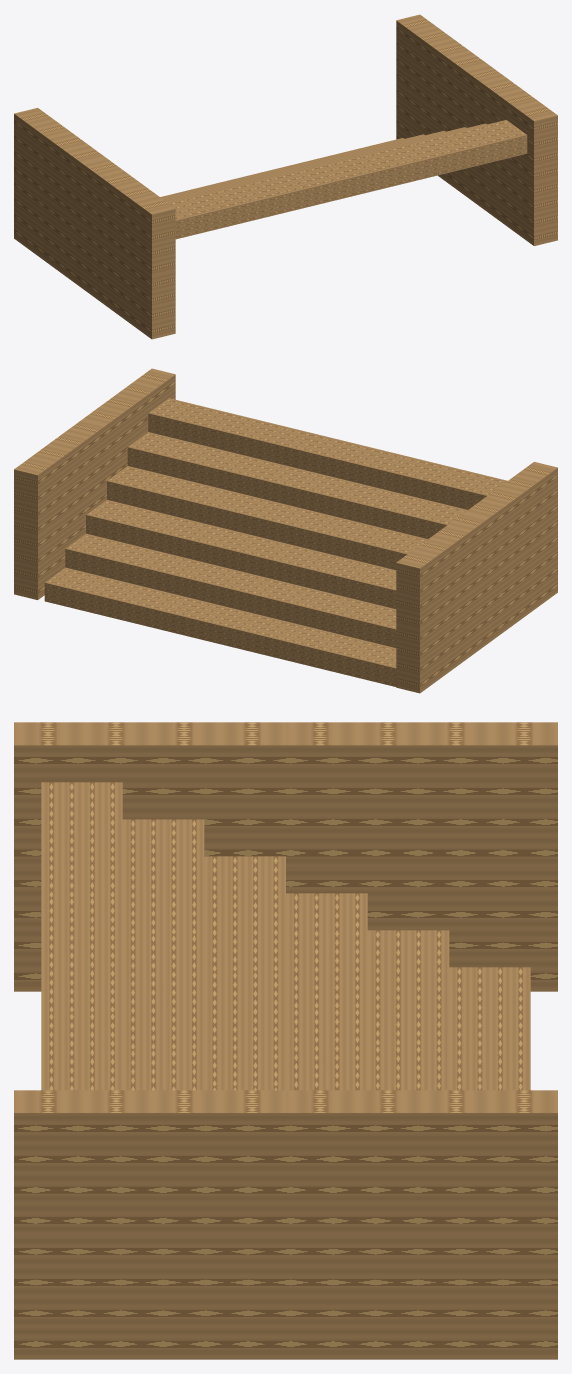
Rendered from water_ghat_stairs.glb.
The picture shows the model from 3 angles, top to bottom: view 1: azimuth 30°, elevation 25°; view 2: azimuth 150°, elevation 25°; view 3: azimuth 270°, elevation 25°; orthographic projection. The views are drawn at different scales.
Visible parts, largest first — view 1: Node_WaterGhatStairs; view 2: Node_WaterGhatStairs; view 3: Node_WaterGhatStairs.
Boxes of the visible parts, left/top/right/bottom form: Node_WaterGhatStairs: left=14, top=14, right=557, bottom=339; Node_WaterGhatStairs: left=14, top=368, right=557, bottom=693; Node_WaterGhatStairs: left=14, top=722, right=557, bottom=1359.
Size of the model in its own units: 6.8 by 2.1 by 4.
1 material, 1 textured.
